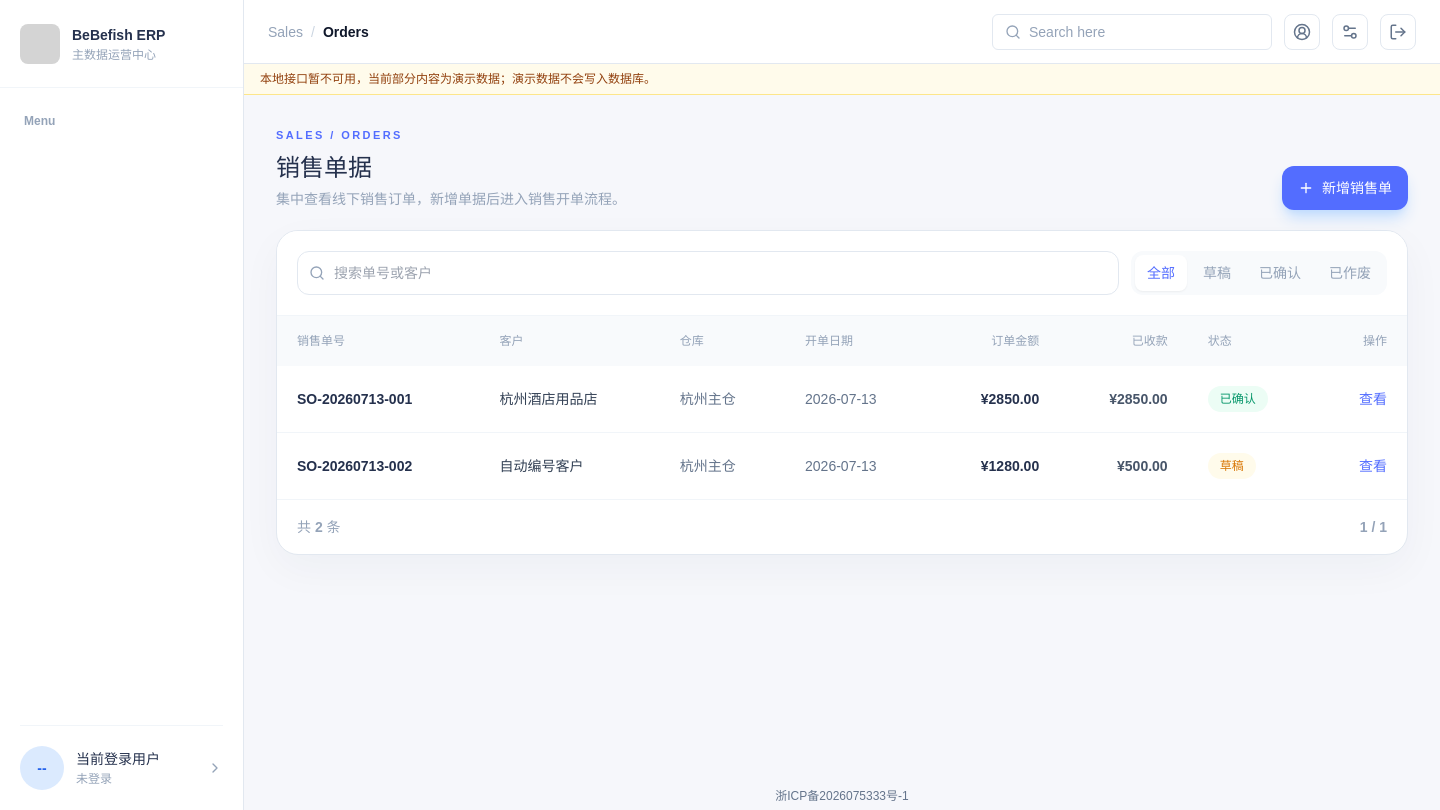
Test: application routes › renders the sales order list and opens the create form from its add action
Expected: the element with test id "sales-orders-page" is shown, [276, 127, 1408, 554]
Expected: the link with test id "breadcrumb-current" reads "Orders", [323, 20, 369, 42]
Step 1. Click the link with test id "add-sales-order" → (1345, 188), box [1282, 166, 1408, 210]
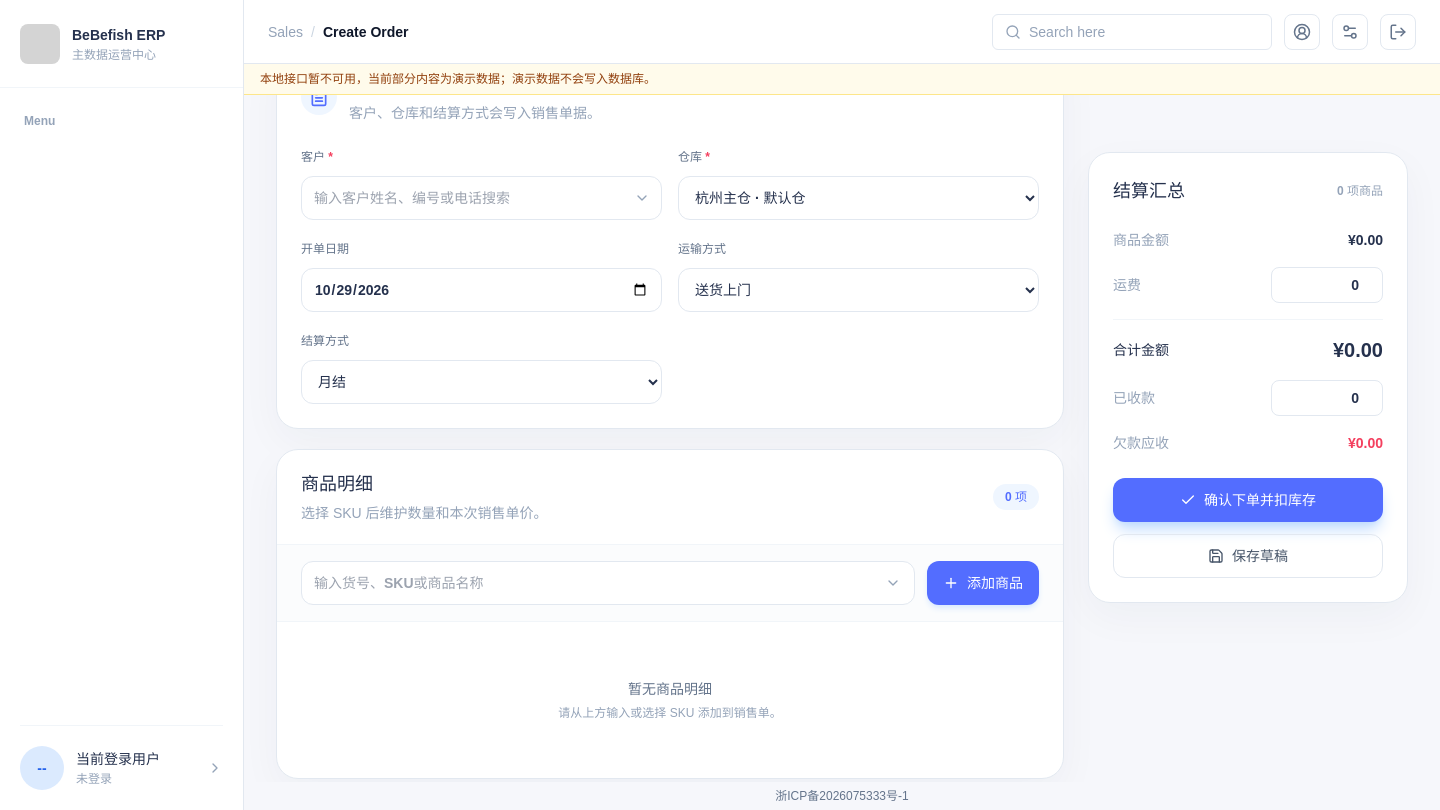
Result: the element with test id "sales-create-page" is shown
